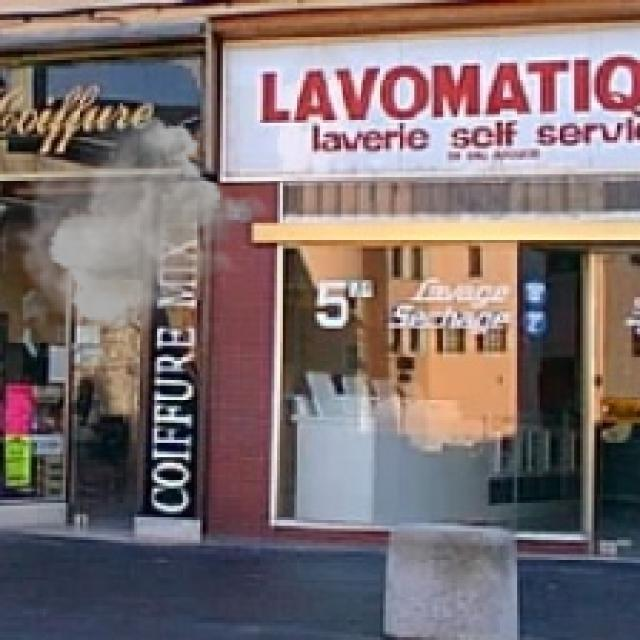Smoke: (15, 111, 272, 366)
